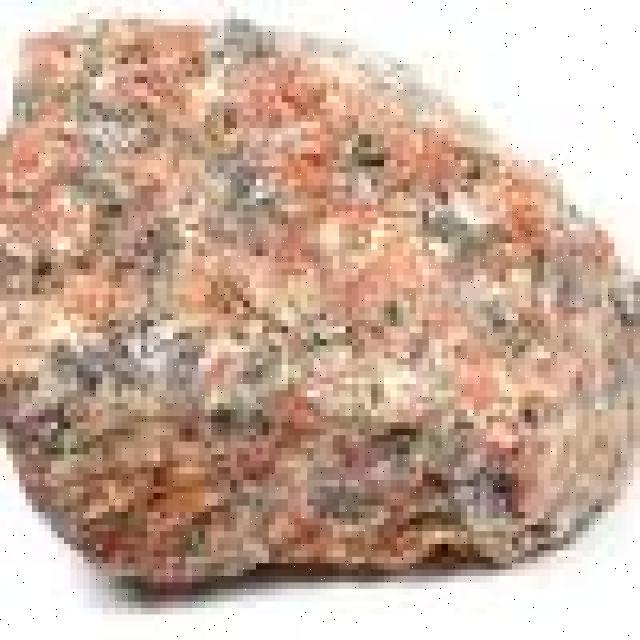Metamorphic: (6, 19, 640, 589)
